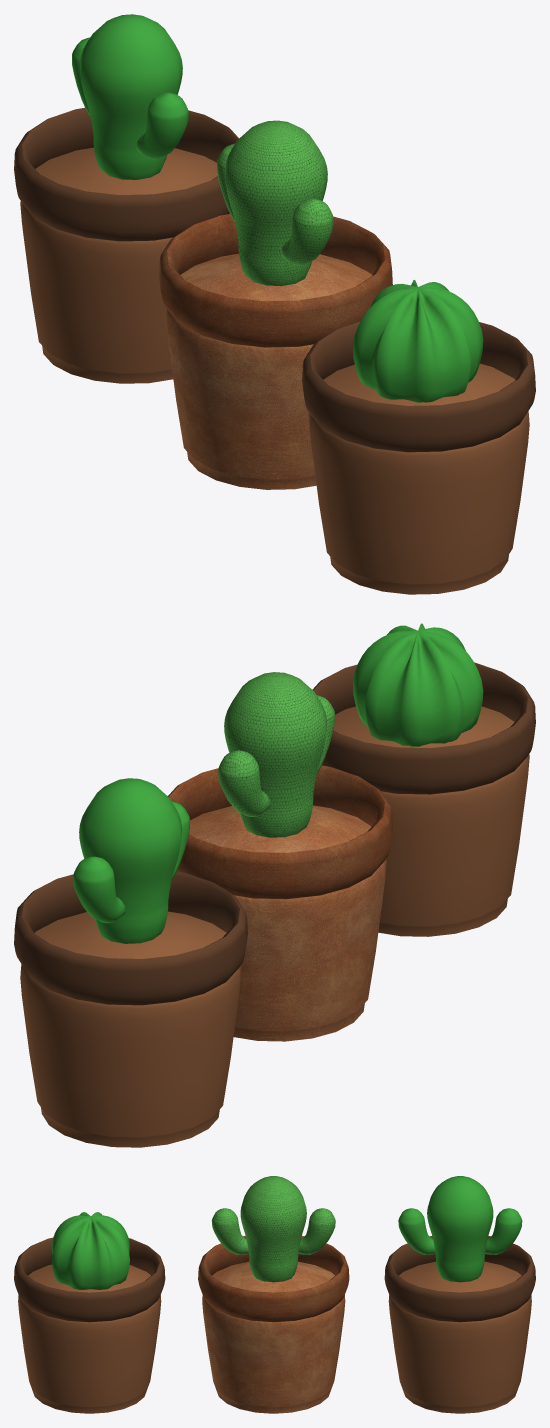
Rendered from cactussssss.fbx.
3 views of the same model, one above another, from view 1: azimuth 30°, elevation 25°; view 2: azimuth 150°, elevation 25°; view 3: azimuth 270°, elevation 25° (orthographic). The views are drawn at different scales.
Visible parts, largest first — view 1: pCylinder4, pCylinder1, pCylinder3, pSphere18, pSphere15, pSphere1, pSphere17, pSphere3; view 2: pCylinder3, pCylinder1, pCylinder4, pSphere18, pSphere1, pSphere15, pSphere13, pSphere7; view 3: pCylinder1, pCylinder3, pCylinder4, pSphere1, pSphere15, pSphere18, pSphere7, pSphere17, pSphere13, pSphere3.
Part boxes in pixels (box(x1,y1,x2,y2)): pCylinder4: box(302, 321, 535, 594); pCylinder1: box(159, 214, 392, 489); pCylinder3: box(14, 107, 238, 383); pSphere18: box(353, 280, 483, 402); pSphere15: box(80, 14, 182, 179); pSphere1: box(225, 120, 327, 286); pSphere17: box(136, 92, 188, 159); pSphere3: box(281, 198, 333, 265); pCylinder3: box(14, 871, 247, 1147); pCylinder1: box(168, 765, 392, 1041); pCylinder4: box(312, 662, 535, 936); pSphere18: box(353, 623, 483, 746); pSphere1: box(224, 672, 326, 837); pSphere15: box(79, 778, 181, 943); pSphere13: box(73, 856, 125, 923); pSphere7: box(218, 750, 270, 816); pCylinder1: box(198, 1236, 349, 1413); pCylinder3: box(384, 1236, 535, 1413); pCylinder4: box(14, 1237, 165, 1413); pSphere1: box(240, 1176, 306, 1282); pSphere15: box(427, 1176, 493, 1282); pSphere18: box(51, 1212, 129, 1290); pSphere7: box(298, 1208, 335, 1254); pSphere17: box(398, 1208, 435, 1254); pSphere13: box(485, 1208, 522, 1254); pSphere3: box(211, 1208, 248, 1254).
Bounding box in the file's own units: 17.19 × 26.4 × 59.28.
